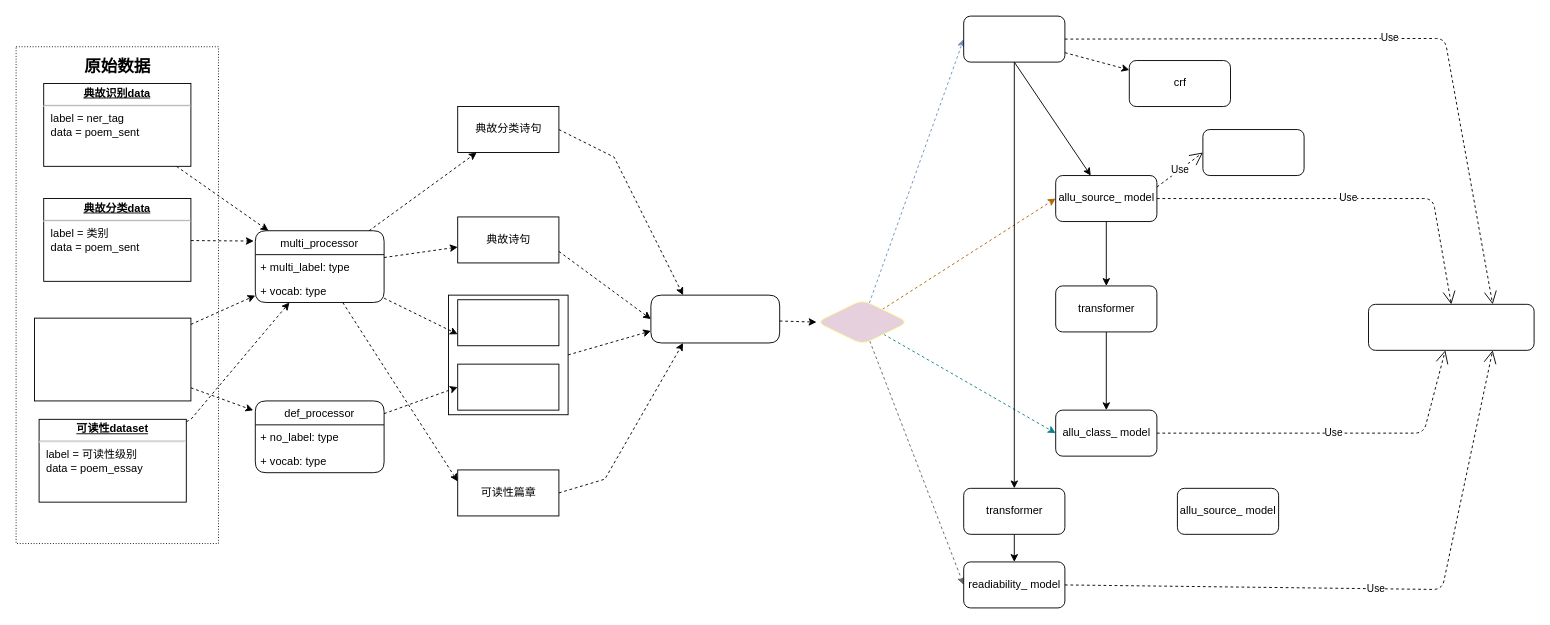
This 1550x625 diagram has some shape labels left out. The shapes that lost their labels are listed below. From the top down, each one's centre as x and y in pixels, then its label:
At (1014,38): "ner_task_ model".
At (1253,152): "def_embedding".
At (508,322): "典源诗句".
At (715,318): "iterator_list".
At (862,322): "task_selector".
At (1451,326): "poem_embedding(fine_tuning)".
At (112,359): "典源识别data label = 类别 data = [poem_sent, allu_def]".
At (508,386): "典源定义".
